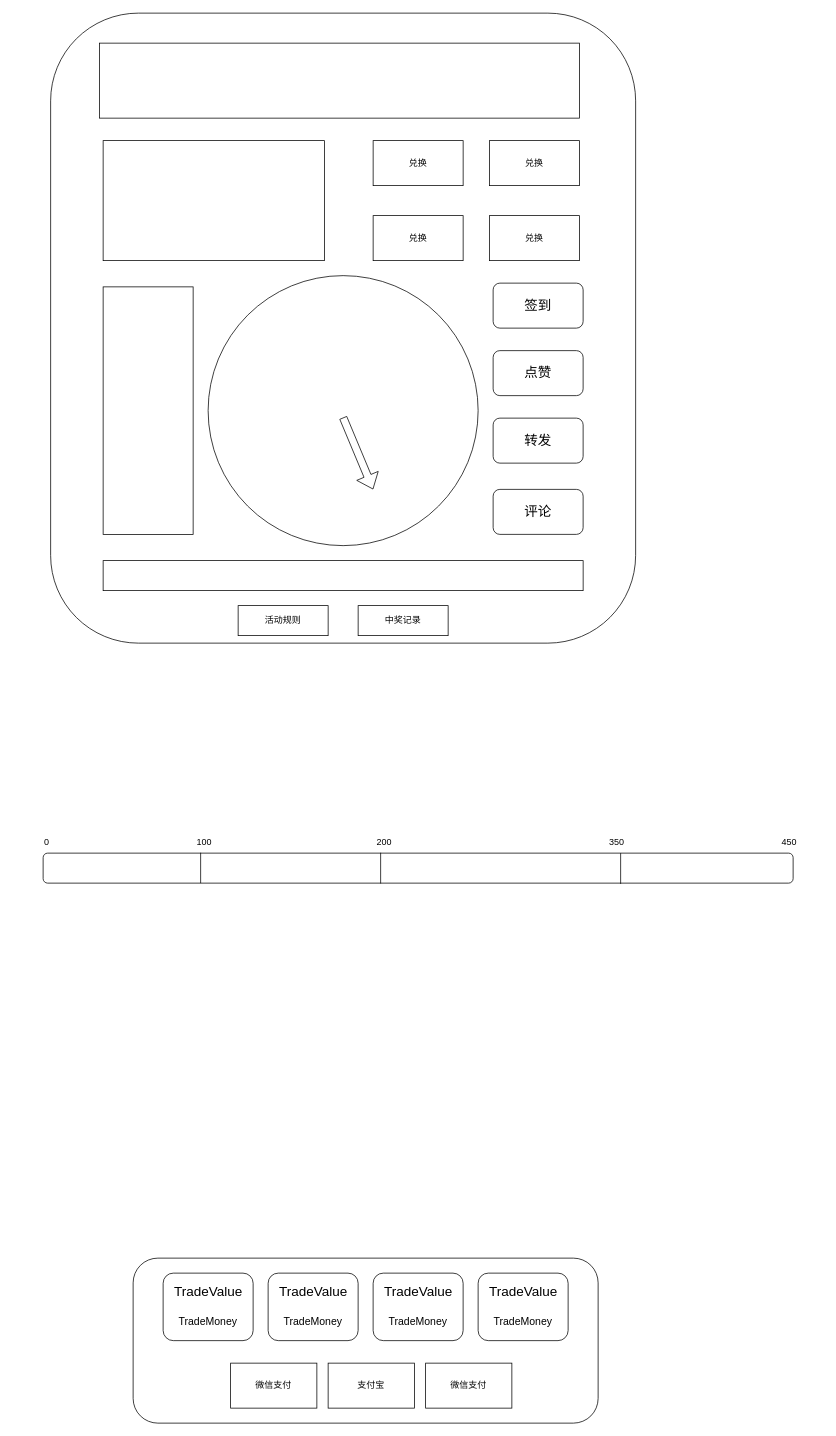
Some shapes in this 836 by 1436 pixel diagram are drawn without their labels. The shapes that lost their labels are listed below. From the top down, each one's centre as x and y in pixels, then its label:
At [339,80]: "大标题：Dasi 抽奖".
At [213,200]: "用户： 用户积分： 总剩余抽奖次数： 当月剩余抽奖次数： 当日剩余抽奖次数： 当月待领取抽奖次数： 当日待领取抽奖次数：".
At [147,410]: "竖直弹幕展示历史中奖列表".
At [342,410]: "圆形轮盘抽奖".
At [342,575]: "幸运值进度条".
